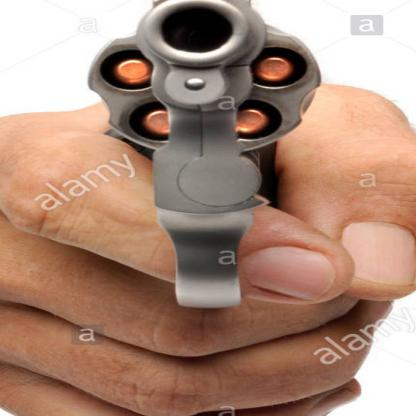gun: (69, 0, 326, 335)
